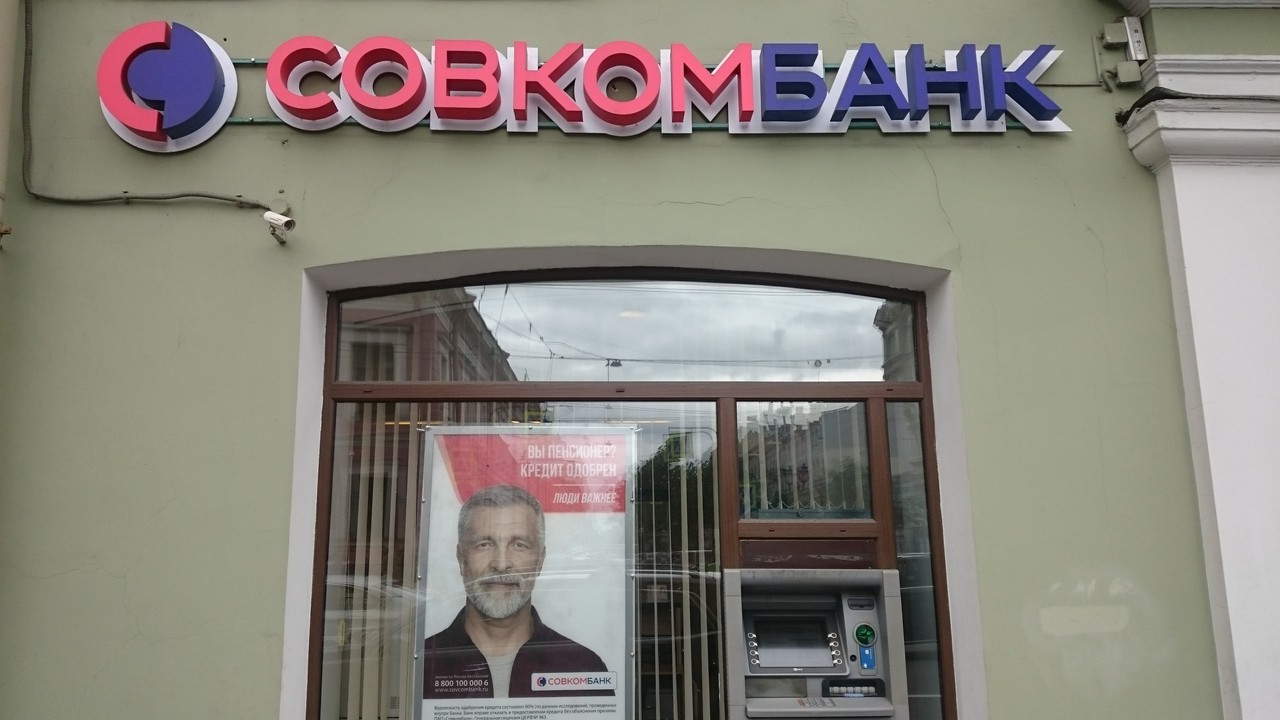signboard: (96, 20, 1080, 159)
window: (307, 270, 944, 720)
